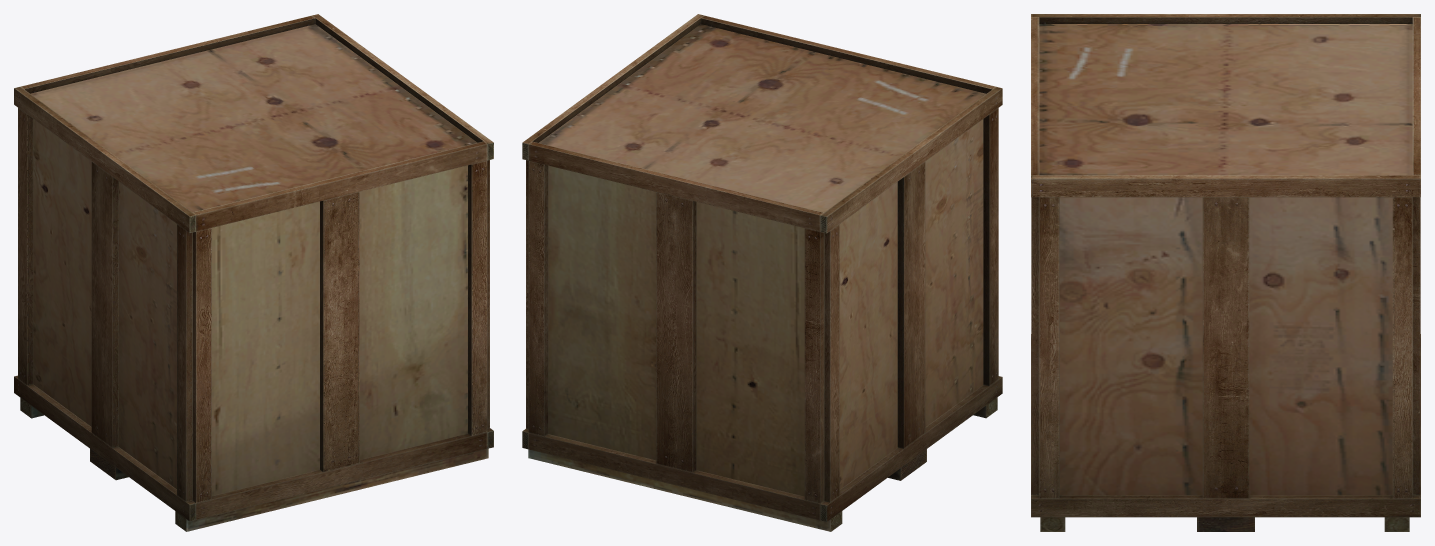
The model's file is Crate02.FBX.
3 renders of one model, left to right at view 1: azimuth 30°, elevation 25°; view 2: azimuth 150°, elevation 25°; view 3: azimuth 270°, elevation 25°, orthographic. The views are drawn at different scales.
Visible parts, largest first — view 1: Crate02; view 2: Crate02; view 3: Crate02.
Boxes of the visible parts, box(x1,y1,x2,y2) form: Crate02: box(14, 14, 493, 531); Crate02: box(522, 14, 1002, 531); Crate02: box(1031, 14, 1420, 531).
Bounding box in the file's own units: 1.11 × 1.11 × 1.11.
